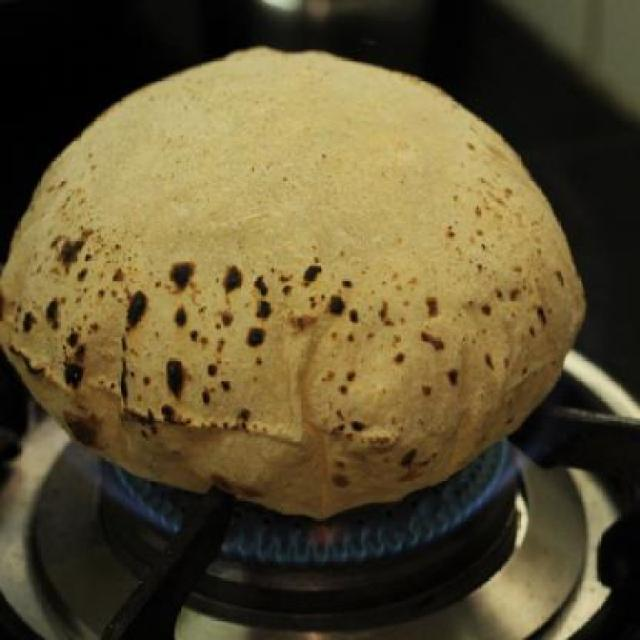chapati: (0, 49, 585, 518)
